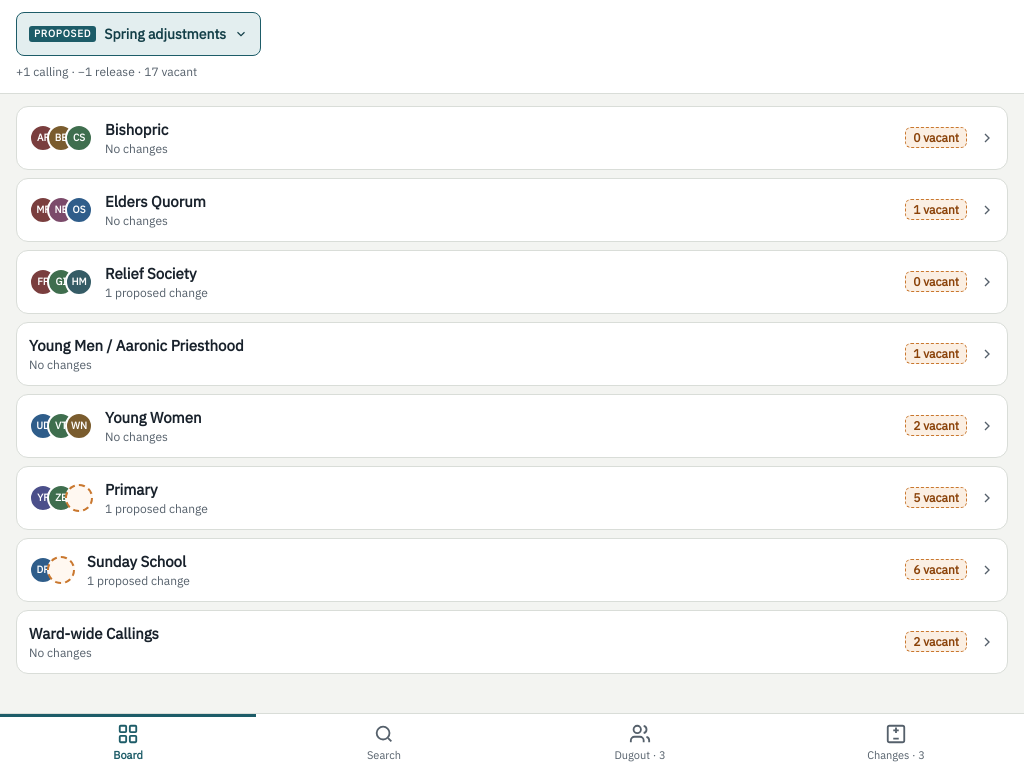
it: phone board editing › tapping a person opens the person sheet for the open board
Click the button "YF ZE Primary 1 proposed change 5 vacant".
click(131, 489)  # box 16,466 -> 1008,530
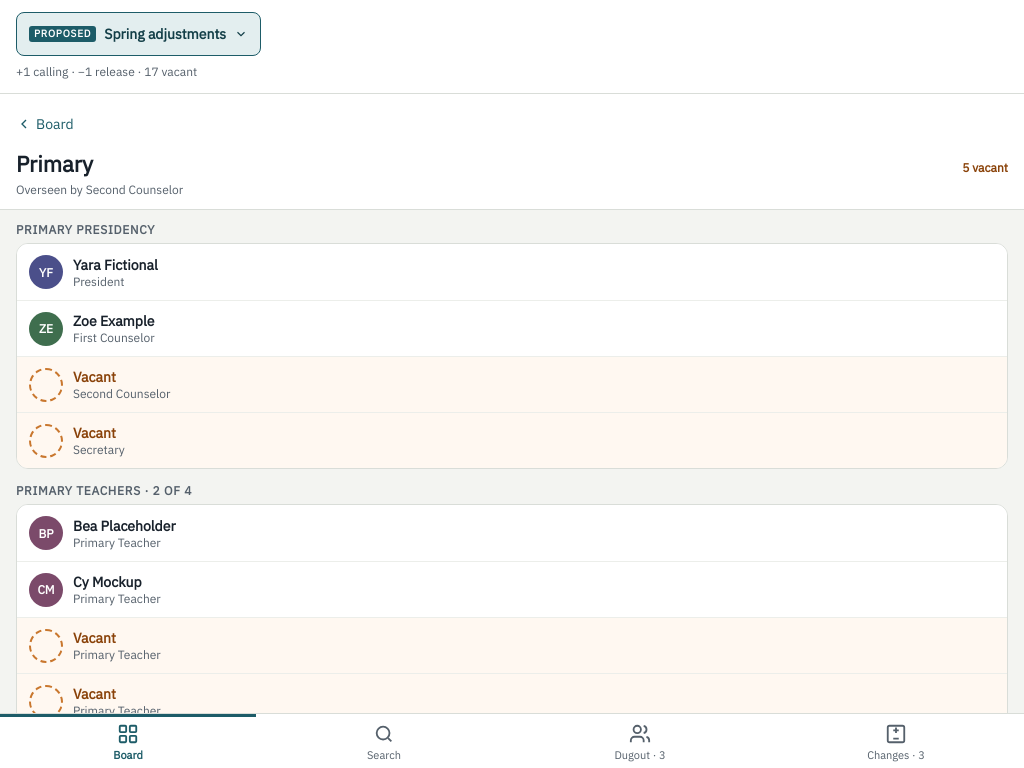
Click the button with aria-label "Bea Placeholder, Primary Teacher".
click(46, 533)  # box 17,505 -> 1007,561
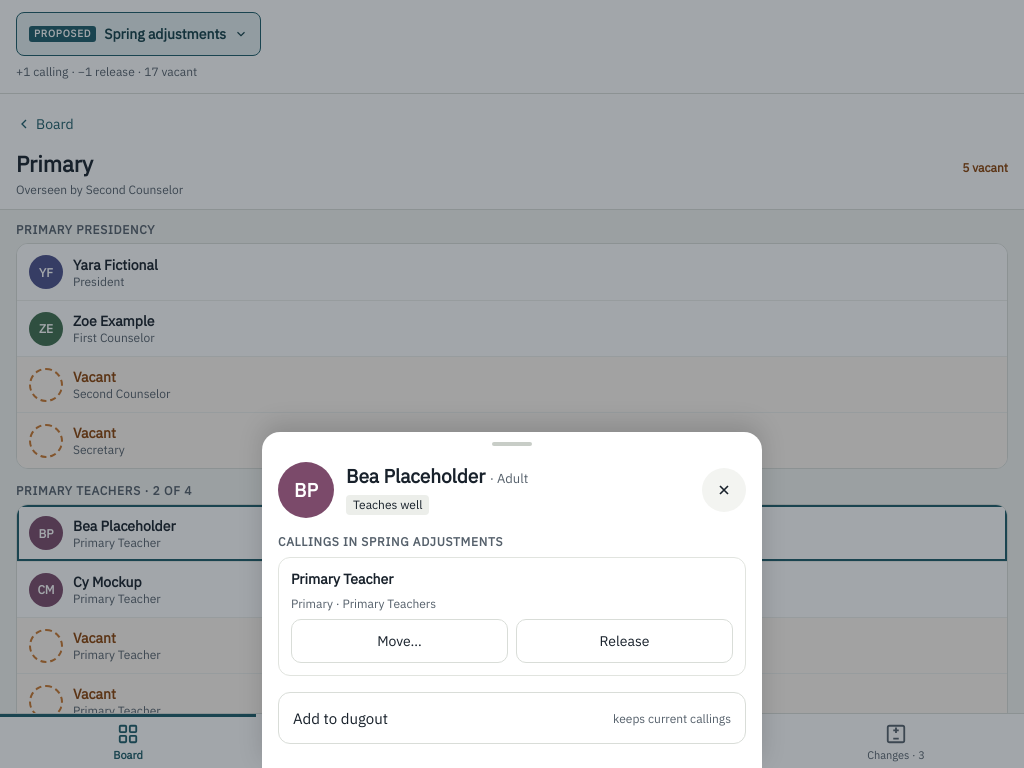
expect the button with aria-label "Move from Primary Teacher" is shown: met, box 291,619 -> 508,663
expect the button with aria-label "Release from Primary Teacher" is shown: met, box 516,619 -> 733,663
expect the button "Add to dugout keeps current callings" is shown: met, box 278,692 -> 746,744
